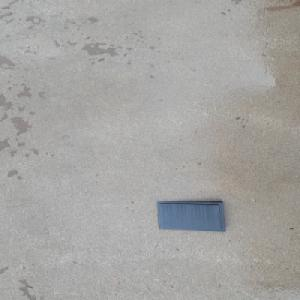PlasticPart: (154, 200, 227, 232)
